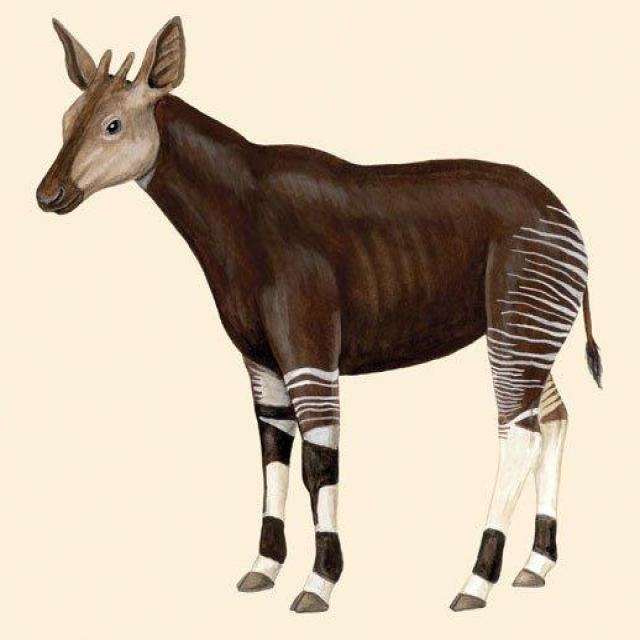Okapi: (34, 22, 619, 640)
